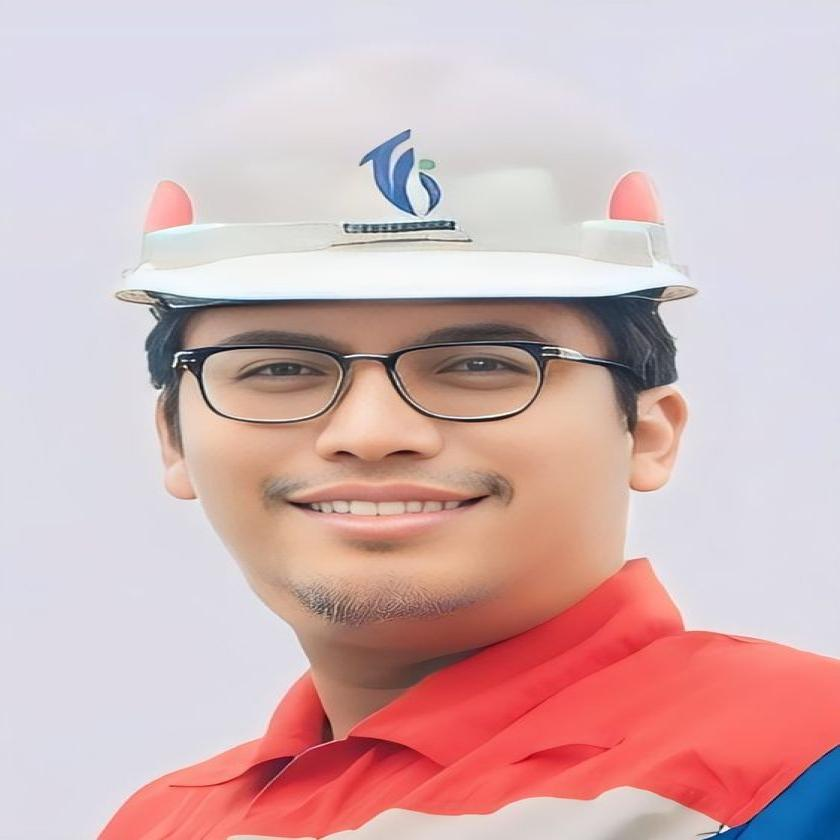Con_casco: (93, 21, 739, 650)
